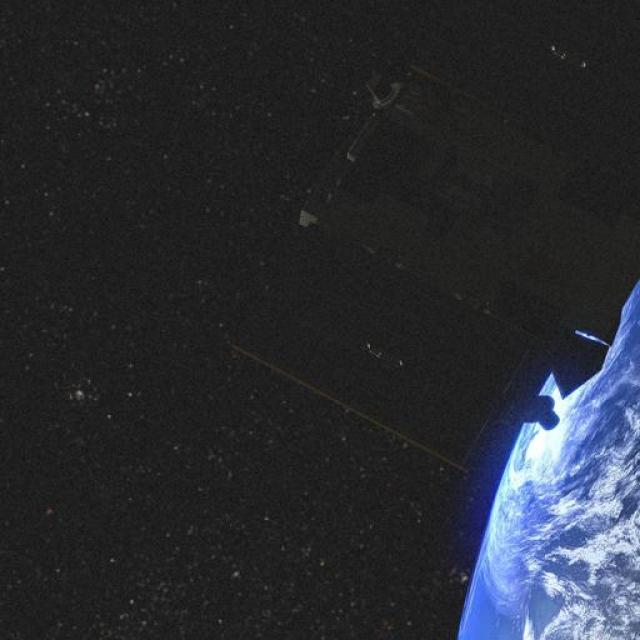proba_2: (235, 26, 637, 449)
